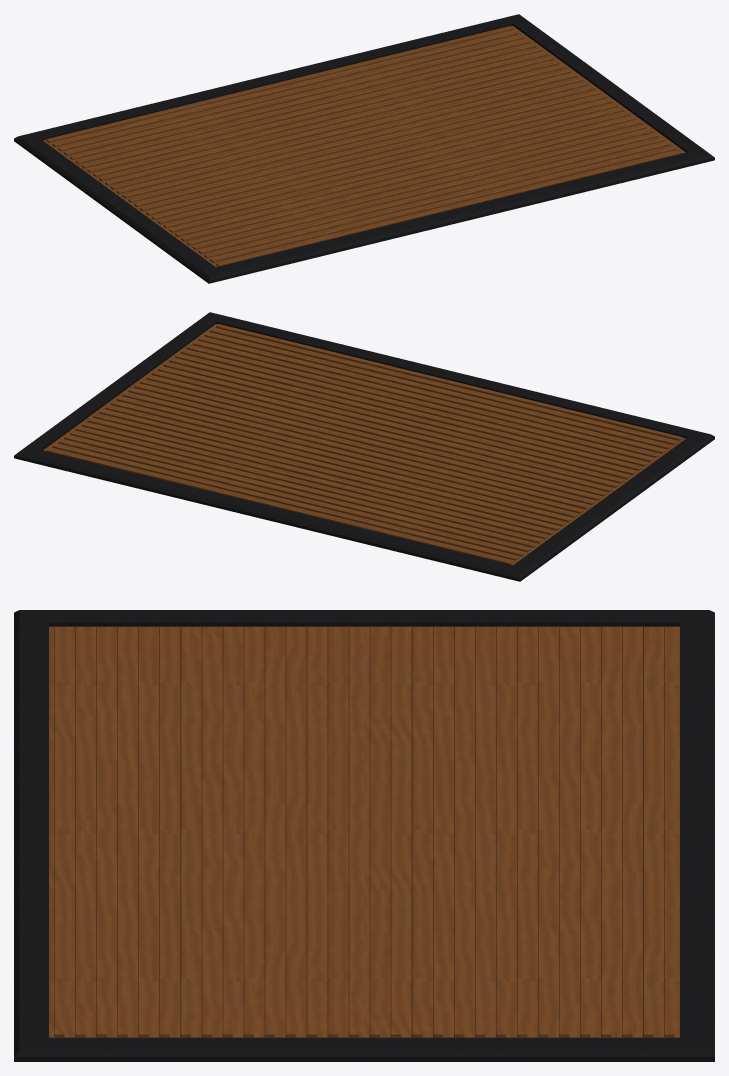
Rendered from doormat.glb.
The picture shows the model from 3 angles, top to bottom: view 1: azimuth 30°, elevation 25°; view 2: azimuth 150°, elevation 25°; view 3: azimuth 270°, elevation 25°; orthographic projection. The views are drawn at different scales.
Visible parts, largest first — view 1: doormat.001; view 2: doormat.001; view 3: doormat.001.
Part boxes in pixels (x1=…): doormat.001: x1=14, y1=14, x2=714, y2=283; doormat.001: x1=14, y1=312, x2=714, y2=581; doormat.001: x1=14, y1=610, x2=714, y2=1061.
Size of what is drawn, in the model's own units: 1.2 by 0.012 by 0.8.
Materials: 2 (2 with a texture image).
